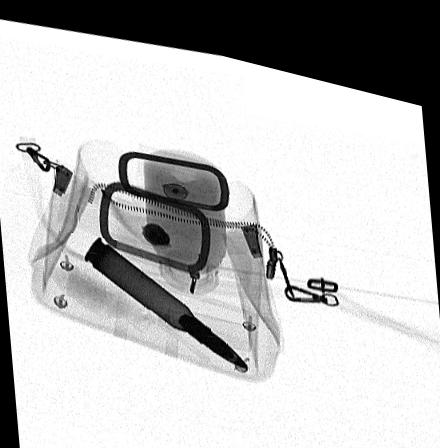Bullet: (81, 230, 249, 357)
